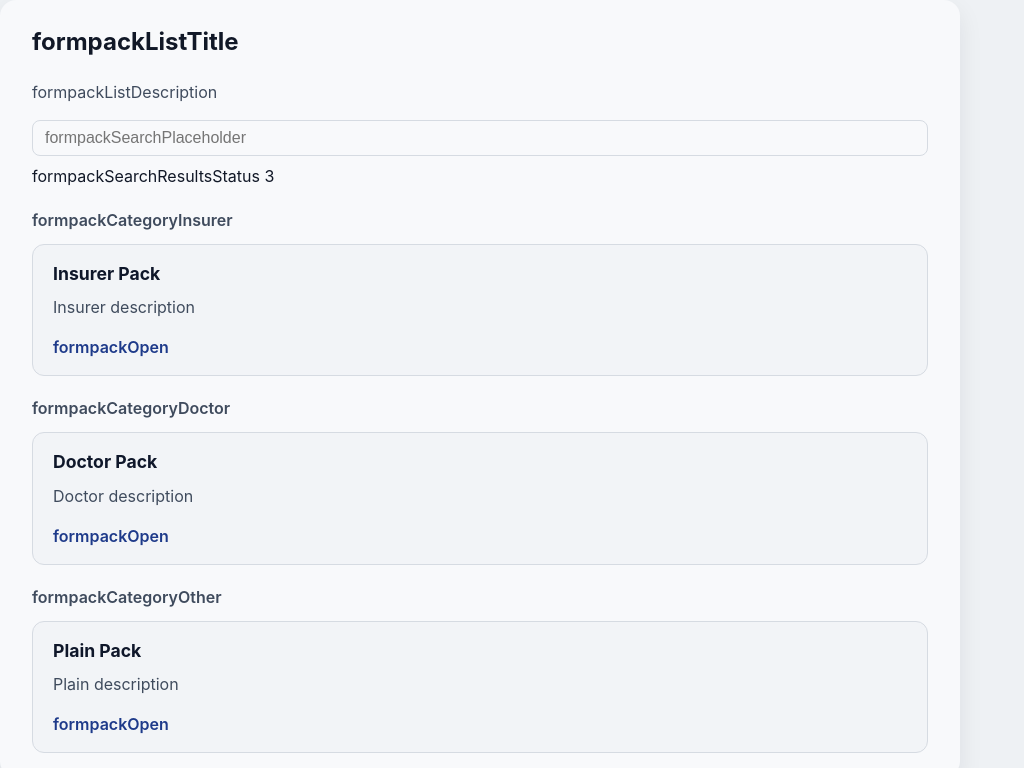
Scenario: FormpackListPage › shows empty state when search yields no results
The width and height of the screenshot is (1024, 768).
Type "xyznonexistent" into the search field with placeholder "formpackSearchPlaceholder" at (480, 138), box [32,120,928,156]
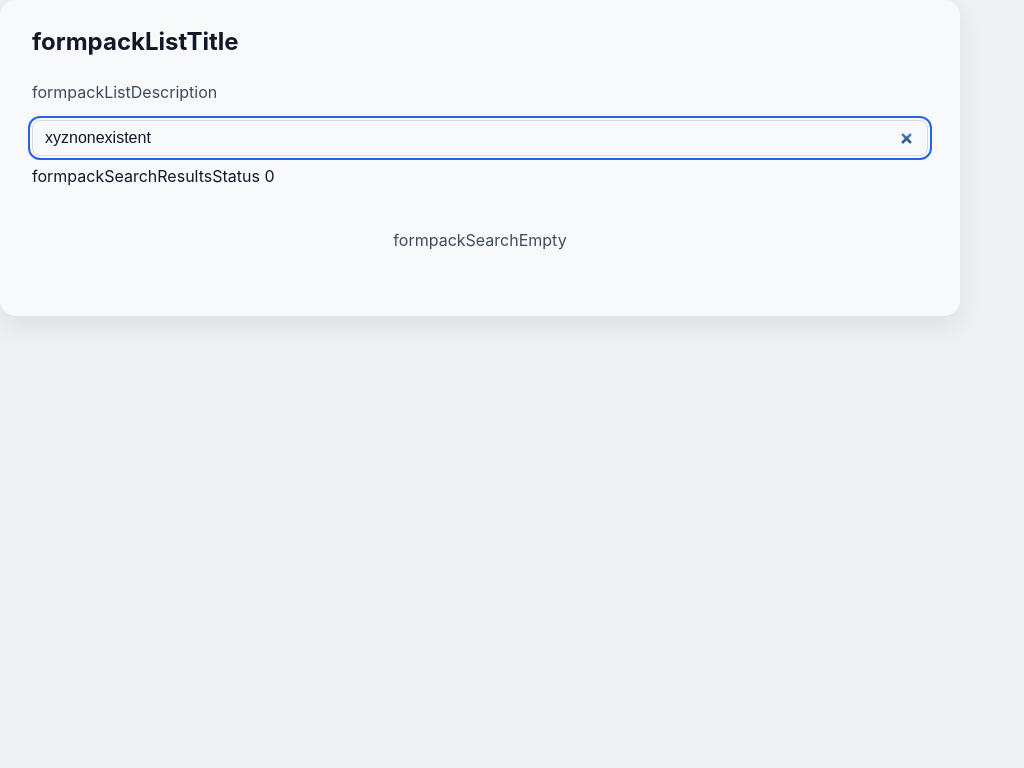
Now the text "formpackSearchEmpty" is shown, box [393,230,567,250]
Now the link "Insurer Pack" is gone
Now the text "formpackSearchResultsStatus 0" is shown, box [32,166,274,186]
